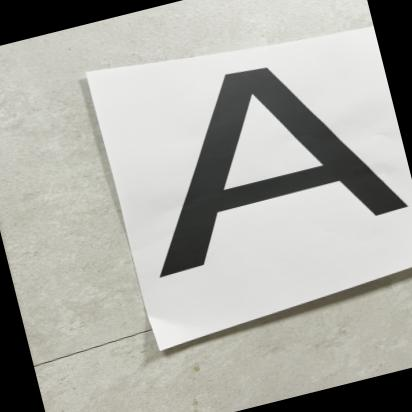seat: (101, 26, 412, 289)
